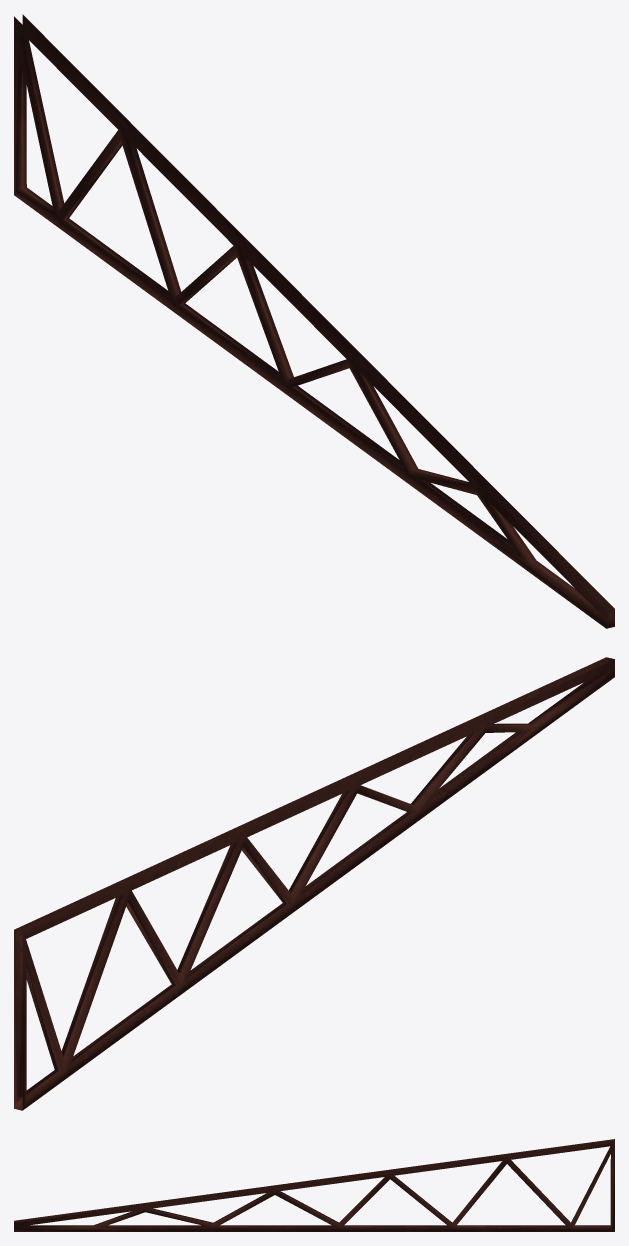
File: metal_sticks_01.fbx
3 renders of one model, top to bottom at view 1: azimuth 30°, elevation 25°; view 2: azimuth 150°, elevation 25°; view 3: azimuth 270°, elevation 25°, orthographic. The views are drawn at different scales.
Parts seen in each view (by area): view 1: Cube; view 2: Cube; view 3: Cube.
Boxes of the visible parts, x1,y1,x2,y2 form: Cube: (14, 14, 614, 628); Cube: (14, 657, 614, 1110); Cube: (14, 1139, 614, 1231).
Bounding box in the file's own units: 0.1 × 2 × 12.
